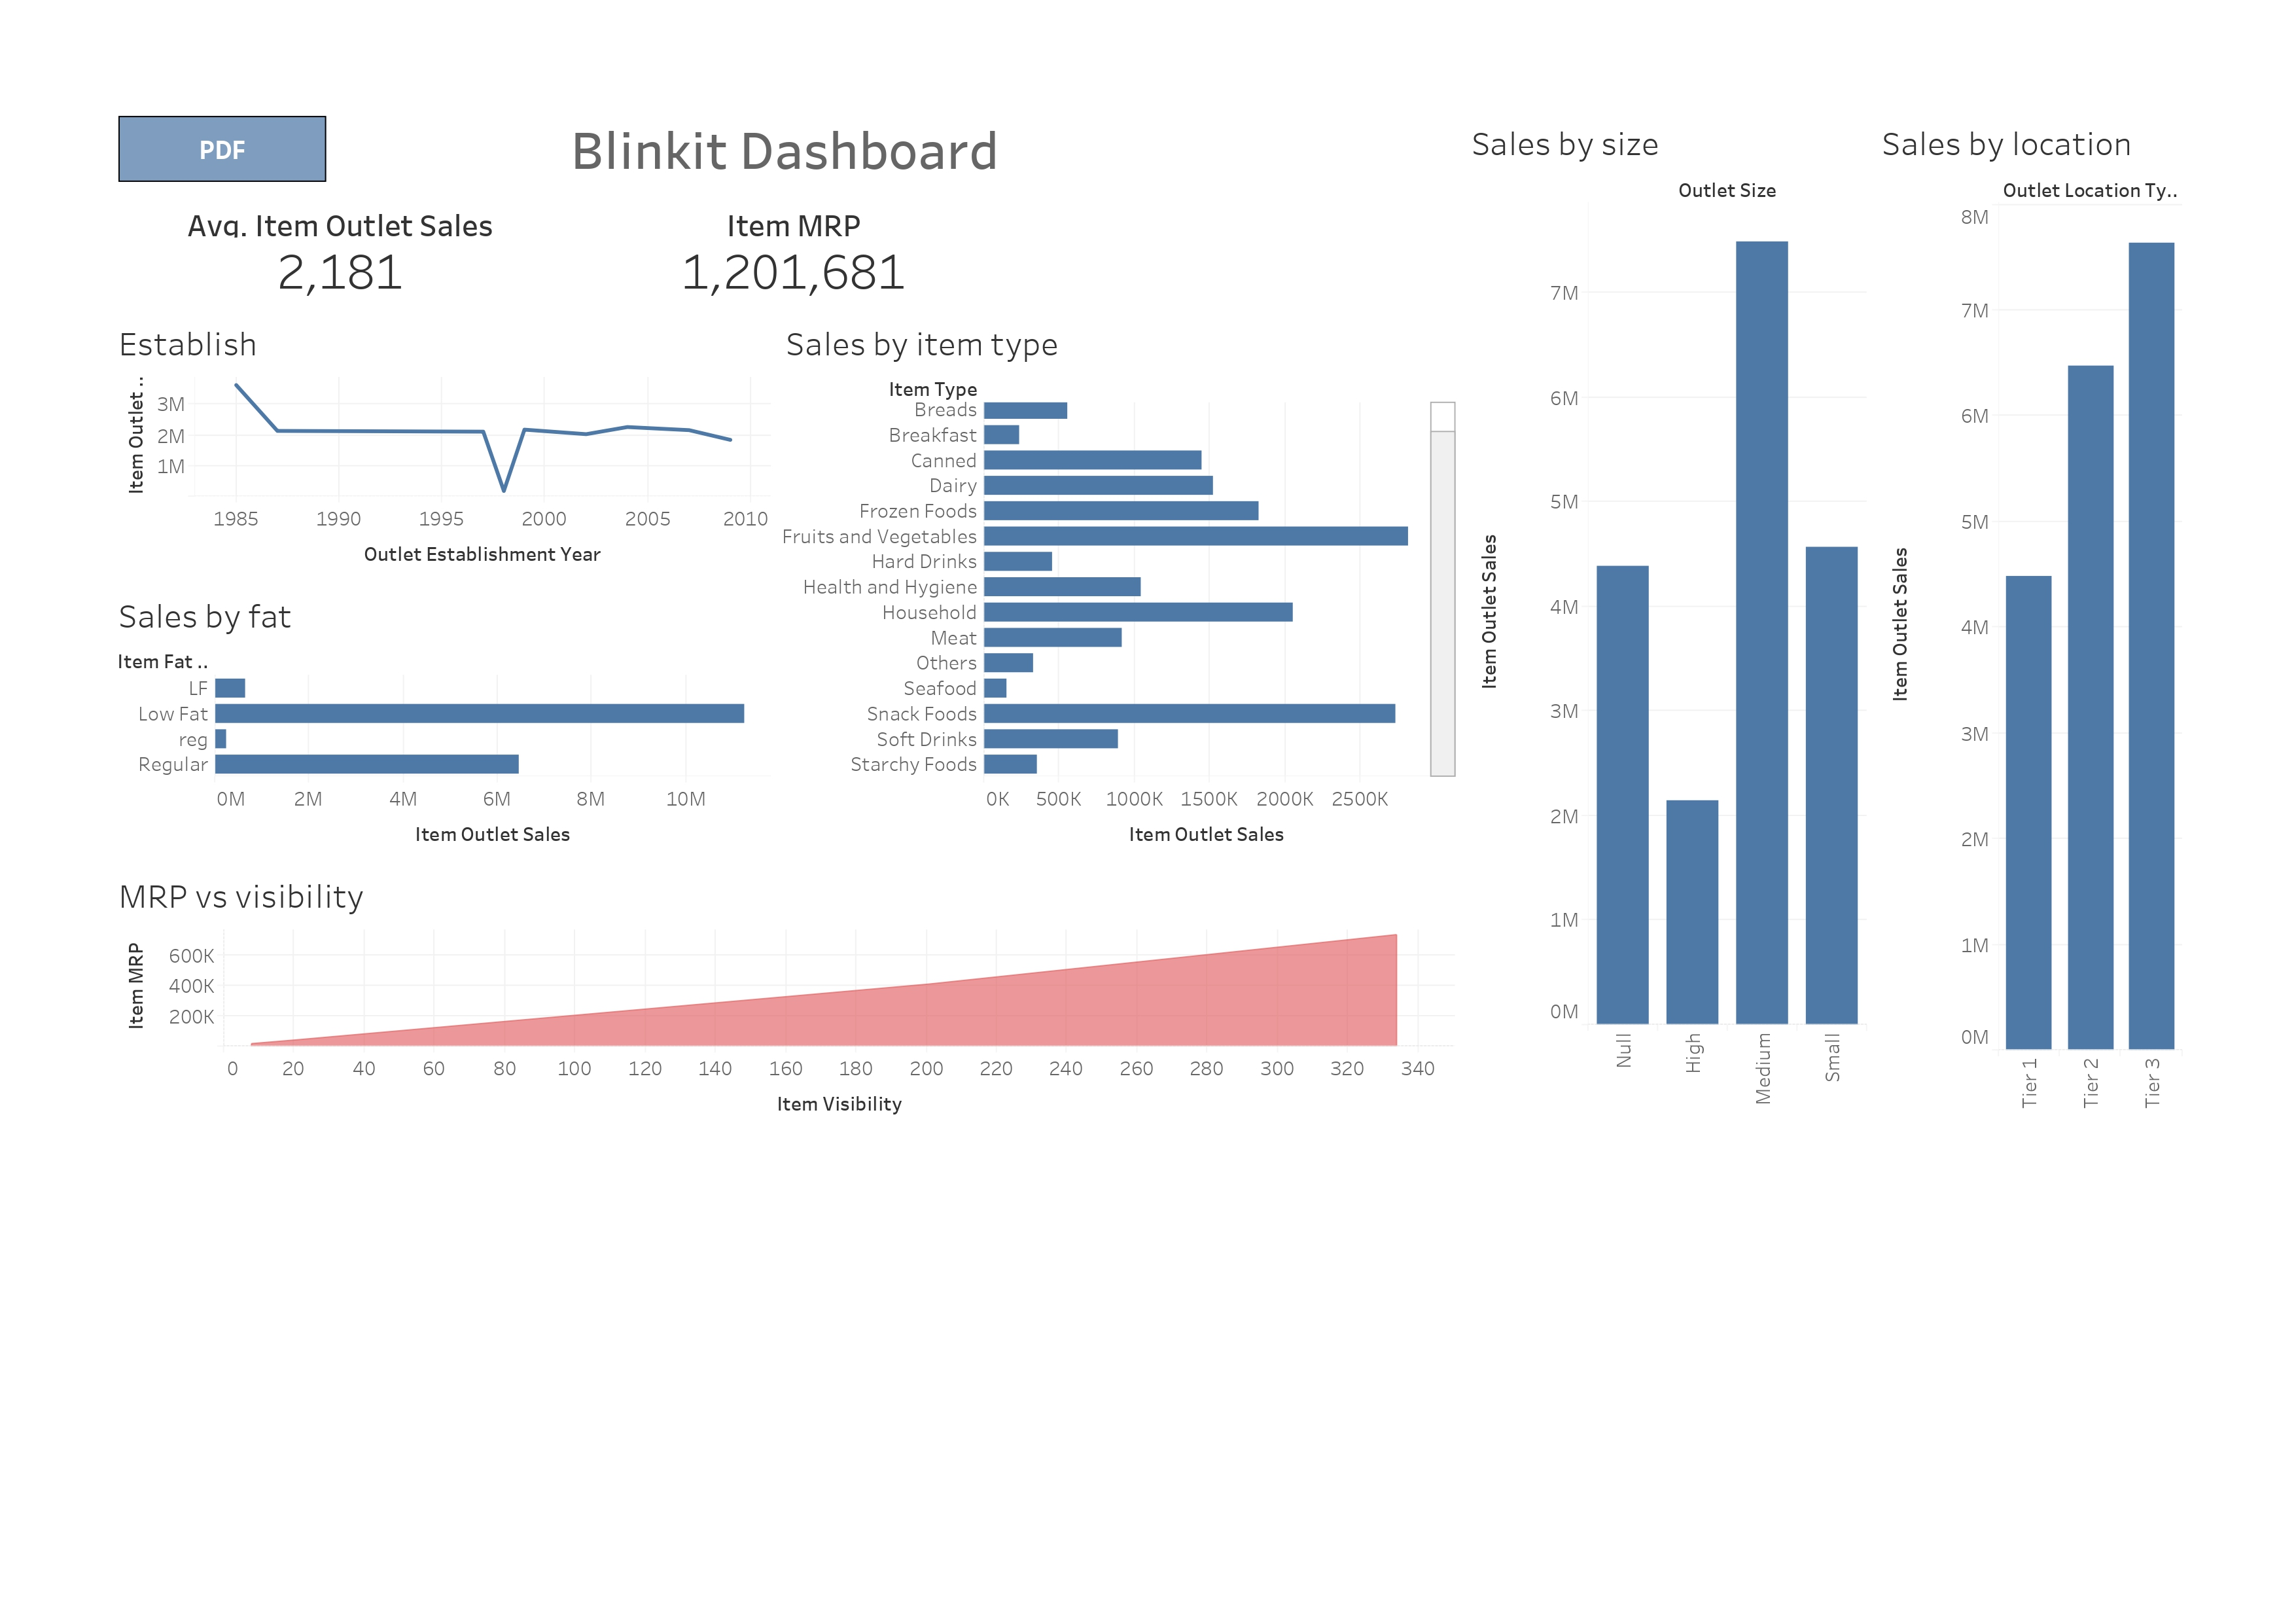

The dashboard page shown, as its layout file describes it:
{"tool":"tableau","page":{"name":"Dashboard 1","canvas":[1000,1000],"units":"permille","ordinal":0},"visuals":[{"type":"dashboard-object","box":[7.2,4.9,99,63.2]},{"type":"text","box":[4.8,9.7,644.5,76.5]},{"type":"worksheet","title":"Sales by size","mark":"Automatic","rows":["Item_Outlet_Sales"],"cols":["Outlet_Size"],"box":[649.4,9.7,195.5,980.6]},{"type":"worksheet","title":"Sales by location","mark":"Automatic","rows":["Item_Outlet_Sales"],"cols":["Outlet_Location_Type"],"box":[844.9,9.7,150.3,980.6]},{"type":"worksheet","title":"Sheet 1","mark":"Automatic","box":[4.8,86.3,644.5,115.4]},{"type":"worksheet","title":"Establish","mark":"Automatic","rows":["Item_Outlet_Sales"],"cols":["Outlet_Establishment_Year"],"box":[4.8,201.7,318,261.2]},{"type":"worksheet","title":"Sales by item type","mark":"Automatic","rows":["Item_Type"],"cols":["Item_Outlet_Sales"],"box":[322.9,201.7,326.5,529.8]},{"type":"worksheet","title":"Sales by fat","mark":"Automatic","rows":["Item_Fat_Content"],"cols":["Item_Outlet_Sales"],"box":[4.8,462.9,318,268.5]},{"type":"worksheet","title":"MRP vs visibility","mark":"Area","rows":["Item_MRP"],"cols":["Item_Visibility"],"box":[4.8,731.5,644.5,258.8]}]}

Visuals, with their boxes on the dashboard's canvas, which has no fixed pixel size, in thousandths of its width and height (x1, y1, x2, y2). These are canvas units, not pixel positions in the 2296x1623 screenshot, which may show the page scaled, cropped or inside an application window:
dashboard-object: [left=7, top=5, right=106, bottom=68]
text: [left=5, top=10, right=649, bottom=86]
"Sales by size" worksheet: [left=649, top=10, right=845, bottom=990]
"Sales by location" worksheet: [left=845, top=10, right=995, bottom=990]
"Sheet 1" worksheet: [left=5, top=86, right=649, bottom=202]
"Establish" worksheet: [left=5, top=202, right=323, bottom=463]
"Sales by item type" worksheet: [left=323, top=202, right=649, bottom=732]
"Sales by fat" worksheet: [left=5, top=463, right=323, bottom=731]
"MRP vs visibility" worksheet (Area marks): [left=5, top=732, right=649, bottom=990]
